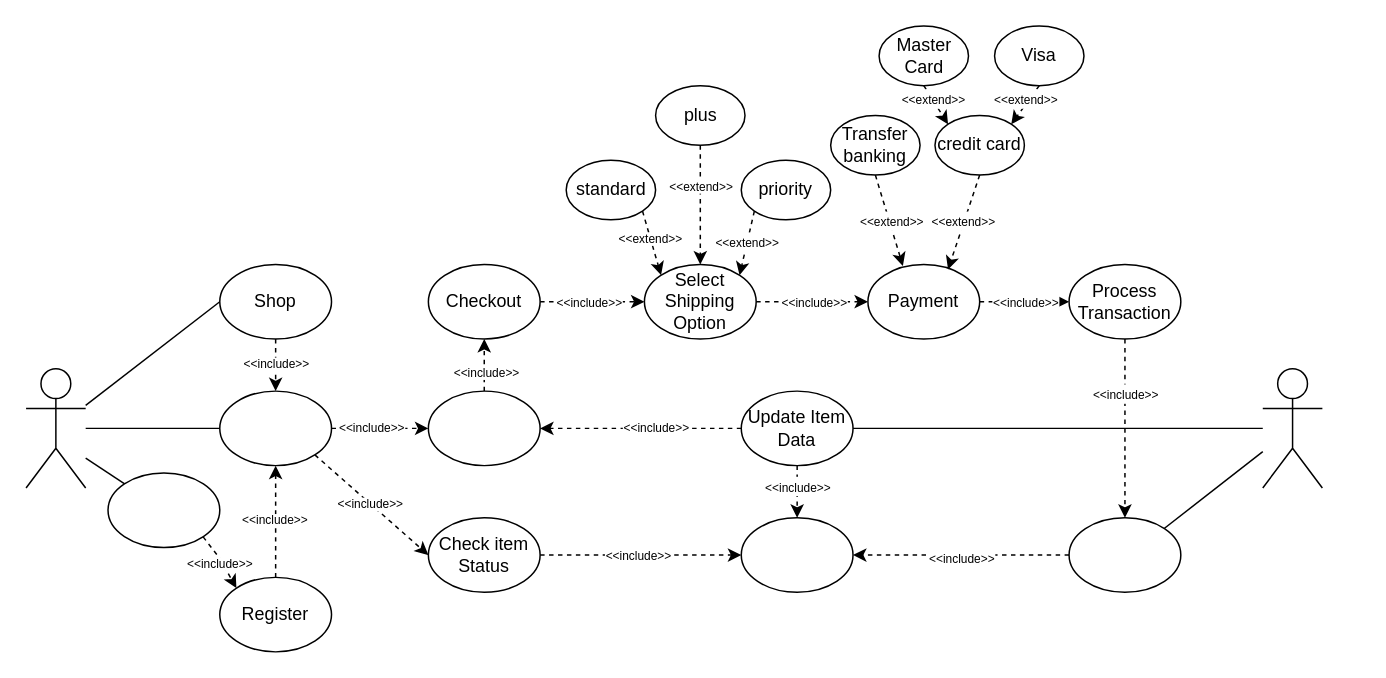
Some shapes in this 1386 by 678 pixel diagram are drawn without their labels. The shapes that lost their labels are listed below. From the top down, each one's centre as x and y in pixels, then its label:
At [55,427]: "User".
At [275,428]: "Login".
At [483,428]: "Shopping Cart".
At [1291,427]: "Cutie Baby Shop".
At [163,510]: "insert data user".
At [796,554]: "Shipping Status".
At [1124,554]: "Send item".
